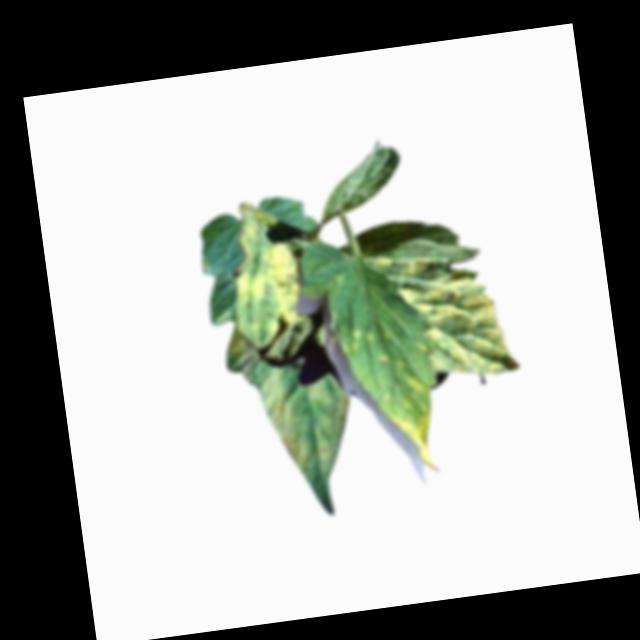Leaf_Mold: (391, 245, 519, 384), (254, 357, 358, 478), (225, 203, 307, 338), (377, 378, 442, 479)
